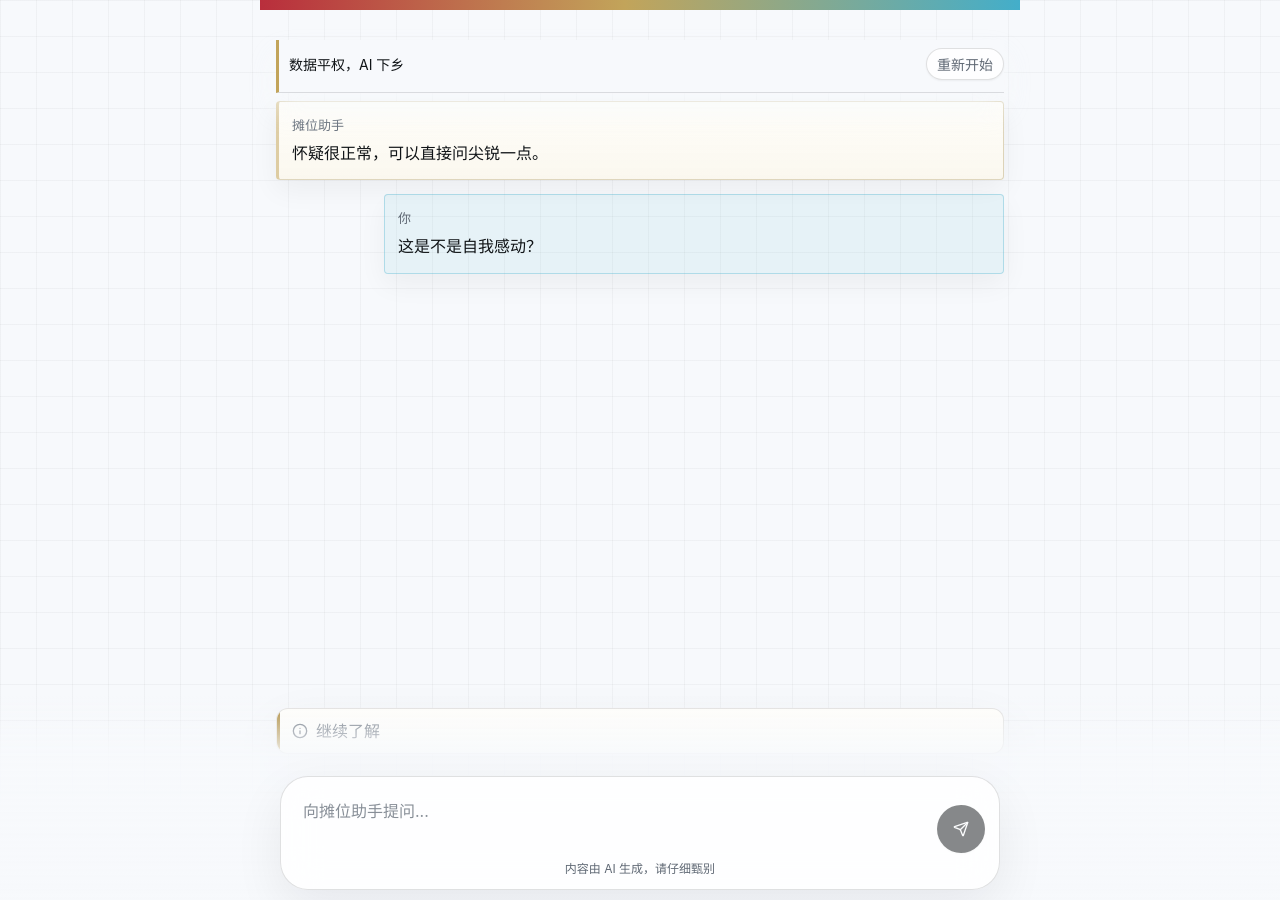
Test: Home › restores a recent local conversation and sends its context with the next question
This screenshot has width=1280, height=900.
Expected: the text "这是不是自我感动？" is shown, [398,236,542,256]
Type "那你们怎么避免？" into the text box named "输入问题" at (611, 822), box [295,791,927,853]
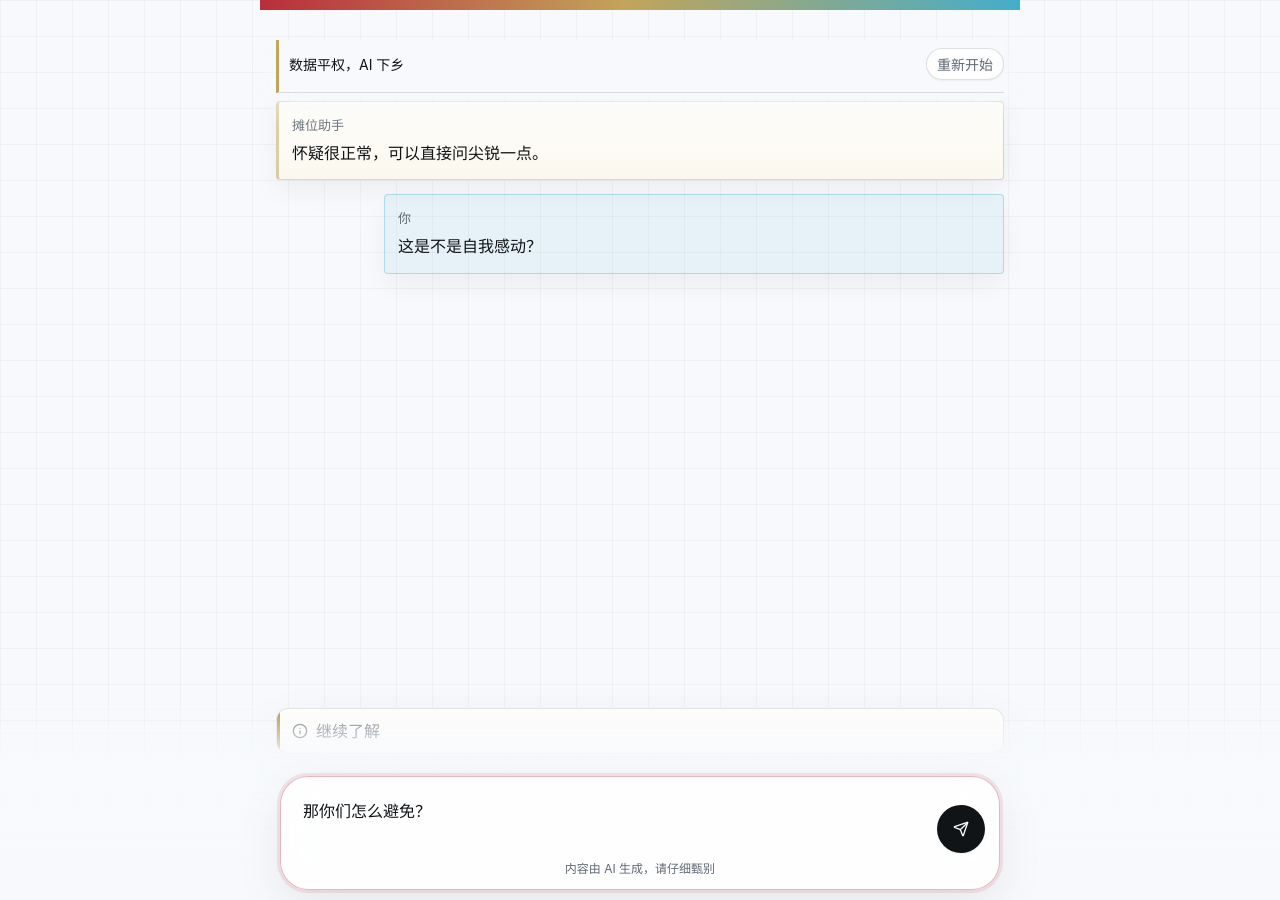
Click the button named "发送" at (961, 829), box [937,805,985,853]
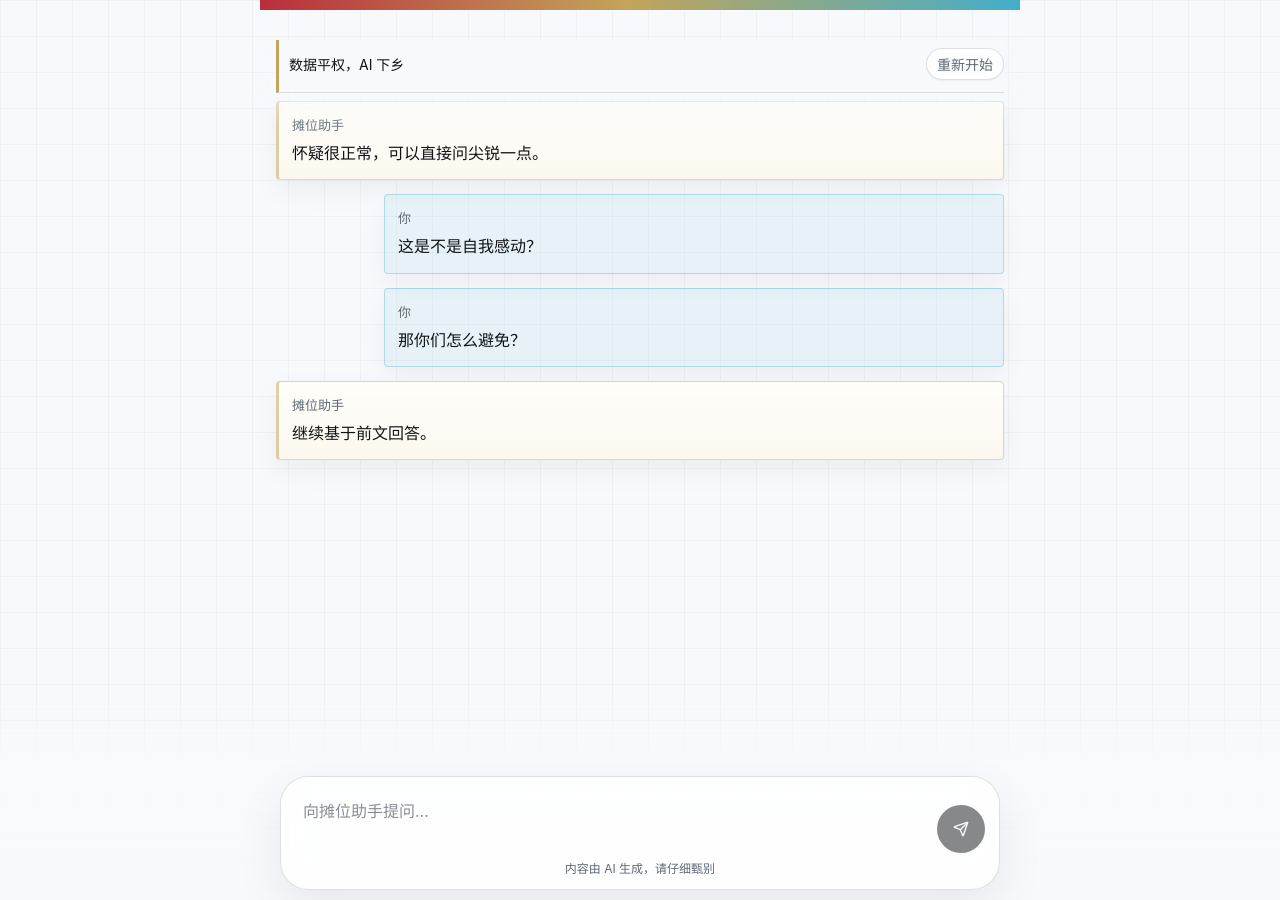
Now the text "继续基于前文回答。" is shown, box [292,423,436,443]
Now the text "那你们怎么避免？" is shown, box [398,330,526,350]
